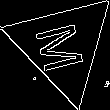M_E: (33, 17, 93, 74)
